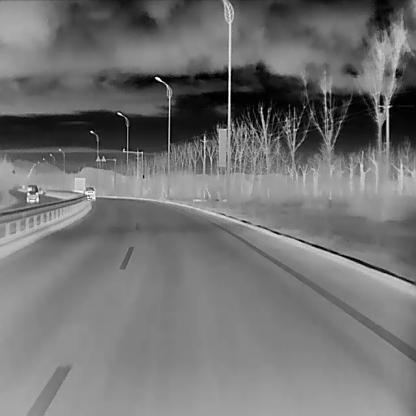car: (26, 184, 38, 202), (82, 186, 95, 200)
truck: (72, 176, 85, 193)
